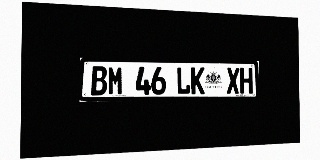4: (136, 66, 151, 95)
6: (151, 67, 166, 95)
B: (91, 66, 107, 95)
H: (240, 68, 253, 94)
K: (191, 67, 205, 94)
L: (176, 67, 190, 94)
M: (108, 66, 123, 95)
X: (226, 67, 239, 94)
